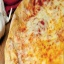pizza: (7, 1, 64, 64)
